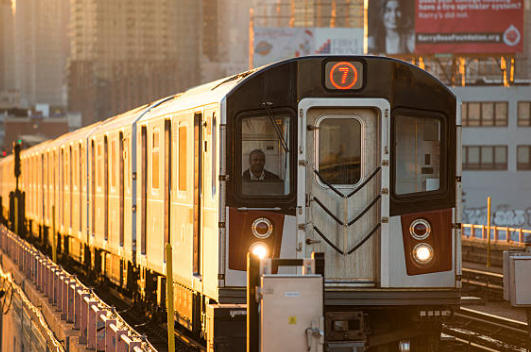train: (86, 57, 462, 271)
